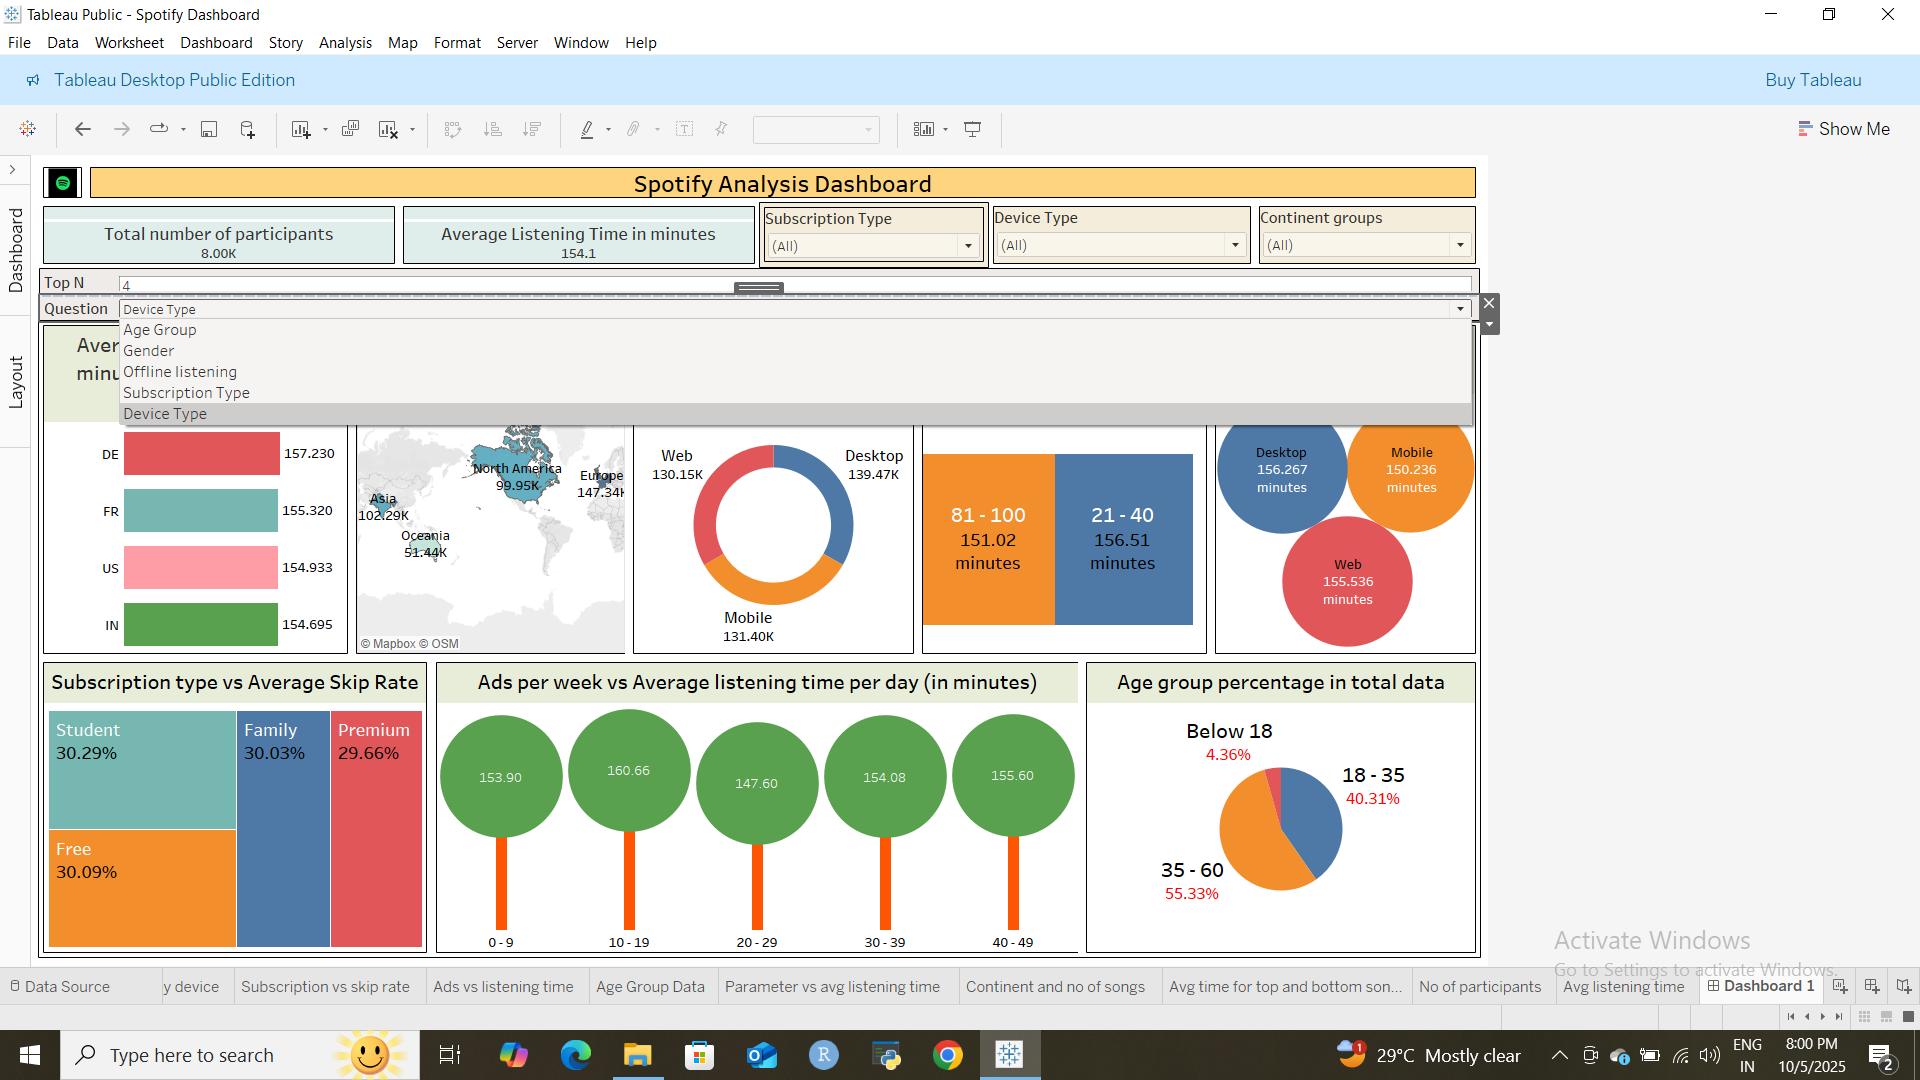

The dashboard page shown, as its layout file describes it:
{"tool":"tableau","page":{"name":"Spotify Dashboard","canvas":[1000,1000],"units":"permille","ordinal":0},"visuals":[{"type":"image","param":"Image/9f5edc36-eb4d-414a-8447-10514f2bc224-cover.png","box":[4.2,9.9,32.5,48.1]},{"type":"text","box":[36.8,9.9,959,48.1]},{"type":"worksheet","title":"No of participants","mark":"Automatic","box":[4.2,57.9,247.8,81.4]},{"type":"worksheet","title":"Avg listening time","mark":"Automatic","box":[252.1,57.9,247.9,81.4]},{"type":"filter","title":"Songs played by device","param":"[federated.1gn5vaq1ly7l3y17p7z3v0p7hh3u].[none:device_type:nk]","box":[657.9,57.9,183.1,81.4]},{"type":"filter","title":"Continent and no of songs","param":"[federated.1gn5vaq1ly7l3y17p7z3v0p7hh3u].[Conuntry grouped to Continents]","box":[841,57.9,154.8,81.4]},{"type":"filter","title":"Subscription vs skip rate","param":"[federated.1gn5vaq1ly7l3y17p7z3v0p7hh3u].[none:subscription_type:nk]","box":[500.5,59.1,156.9,77.7]},{"type":"parameter","param":"[Parameters].[Parameter 1]","box":[4.8,140.6,990.5,32.1]},{"type":"parameter","param":"[Parameters].[Parameter 2]","box":[4.8,172.6,990.5,32.1]},{"type":"worksheet","title":"Avg list time parameter","mark":"Automatic","rows":["country"],"cols":["listening_time"],"box":[4.8,203.5,214.8,416.8]},{"type":"worksheet","title":"Continent and no of songs","mark":"Automatic","box":[219.7,203.5,190.8,416.8]},{"type":"worksheet","title":"Songs played by device","mark":"Pie","rows":["Calculation_955326126356881410","Calculation_955326126356897796"],"box":[410.5,203.5,198.6,416.8]},{"type":"worksheet","title":"Avg time for top and bottom songs","mark":"Automatic","cols":["listening_time"],"box":[609.1,203.5,201.3,416.8]},{"type":"worksheet","title":"Parameter vs avg listening time","mark":"Circle","box":[810.4,203.5,184.8,416.8]},{"type":"worksheet","title":"Subscription vs skip rate","mark":"Automatic","box":[4.8,620.2,269.8,369.9]},{"type":"worksheet","title":"Ads vs listening time","mark":"Automatic","rows":["listening_time","listening_time"],"cols":["Calculation_955326126362046473"],"box":[274.6,620.2,447.2,369.9]},{"type":"worksheet","title":"Age Group Data","mark":"Pie","box":[721.8,620.2,273.4,369.9]}]}

Visuals, with their boxes on the dashboard's canvas, which has no fixed pixel size, in thousandths of its width and height (x1, y1, x2, y2). These are canvas units, not pixel positions in the 1920x1080 screenshot, which may show the page scaled, cropped or inside an application window:
image: [left=4, top=10, right=37, bottom=58]
text: [left=37, top=10, right=996, bottom=58]
"No of participants" worksheet: [left=4, top=58, right=252, bottom=139]
"Avg listening time" worksheet: [left=252, top=58, right=500, bottom=139]
"Songs played by device" filter: [left=658, top=58, right=841, bottom=139]
"Continent and no of songs" filter: [left=841, top=58, right=996, bottom=139]
"Subscription vs skip rate" filter: [left=500, top=59, right=657, bottom=137]
parameter: [left=5, top=141, right=995, bottom=173]
parameter: [left=5, top=173, right=995, bottom=205]
"Avg list time parameter" worksheet: [left=5, top=204, right=220, bottom=620]
"Continent and no of songs" worksheet: [left=220, top=204, right=410, bottom=620]
"Songs played by device" worksheet (Pie marks): [left=410, top=204, right=609, bottom=620]
"Avg time for top and bottom songs" worksheet: [left=609, top=204, right=810, bottom=620]
"Parameter vs avg listening time" worksheet (Circle marks): [left=810, top=204, right=995, bottom=620]
"Subscription vs skip rate" worksheet: [left=5, top=620, right=275, bottom=990]
"Ads vs listening time" worksheet: [left=275, top=620, right=722, bottom=990]
"Age Group Data" worksheet (Pie marks): [left=722, top=620, right=995, bottom=990]
